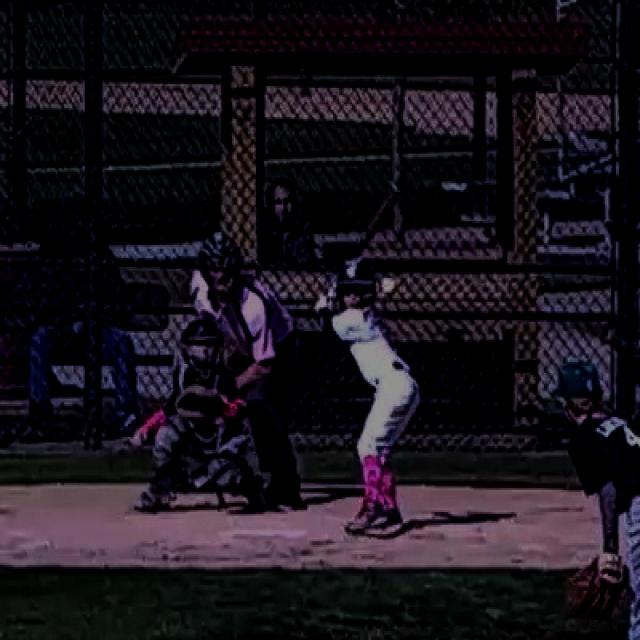baseball: (383, 278, 395, 292)
